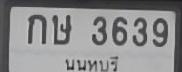3: (91, 15, 106, 44), (131, 16, 146, 45)
6: (111, 16, 126, 45)
9: (152, 17, 167, 46)
A01: (27, 13, 46, 43)
A39: (51, 14, 71, 44)
NBI: (59, 50, 122, 72)
